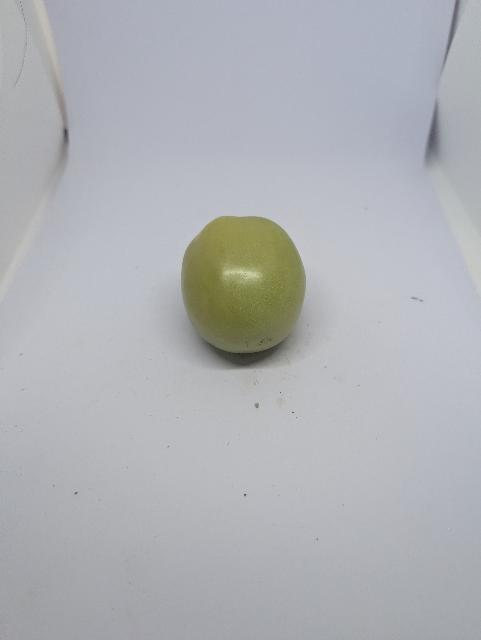green: (178, 210, 311, 356)
